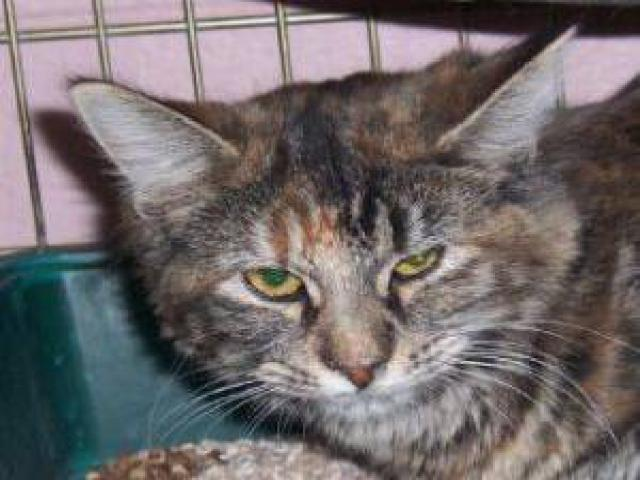cat: (65, 24, 630, 479)
